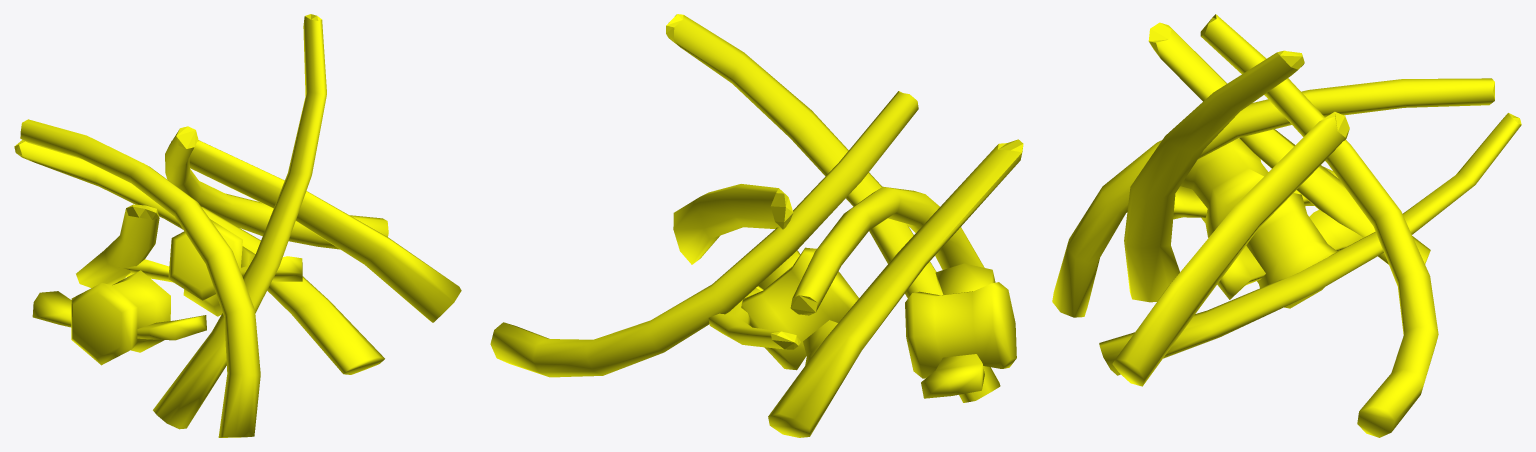
Rendered from bone_whale_lump02.glb.
3 views of the same model, side by side, from view 1: azimuth 30°, elevation 25°; view 2: azimuth 150°, elevation 25°; view 3: azimuth 270°, elevation 25° (orthographic). The views are drawn at different scales.
Parts seen in each view (by area): view 1: bone_whale_lump02; view 2: bone_whale_lump02; view 3: bone_whale_lump02.
Part boxes in pixels (bbox=[...]): bone_whale_lump02: bbox=[14, 14, 461, 437]; bone_whale_lump02: bbox=[490, 14, 1023, 437]; bone_whale_lump02: bbox=[1052, 14, 1521, 437].
Bounding box in the file's own units: 11.79 × 9.32 × 11.04.
Materials: 1 (1 with a texture image).
